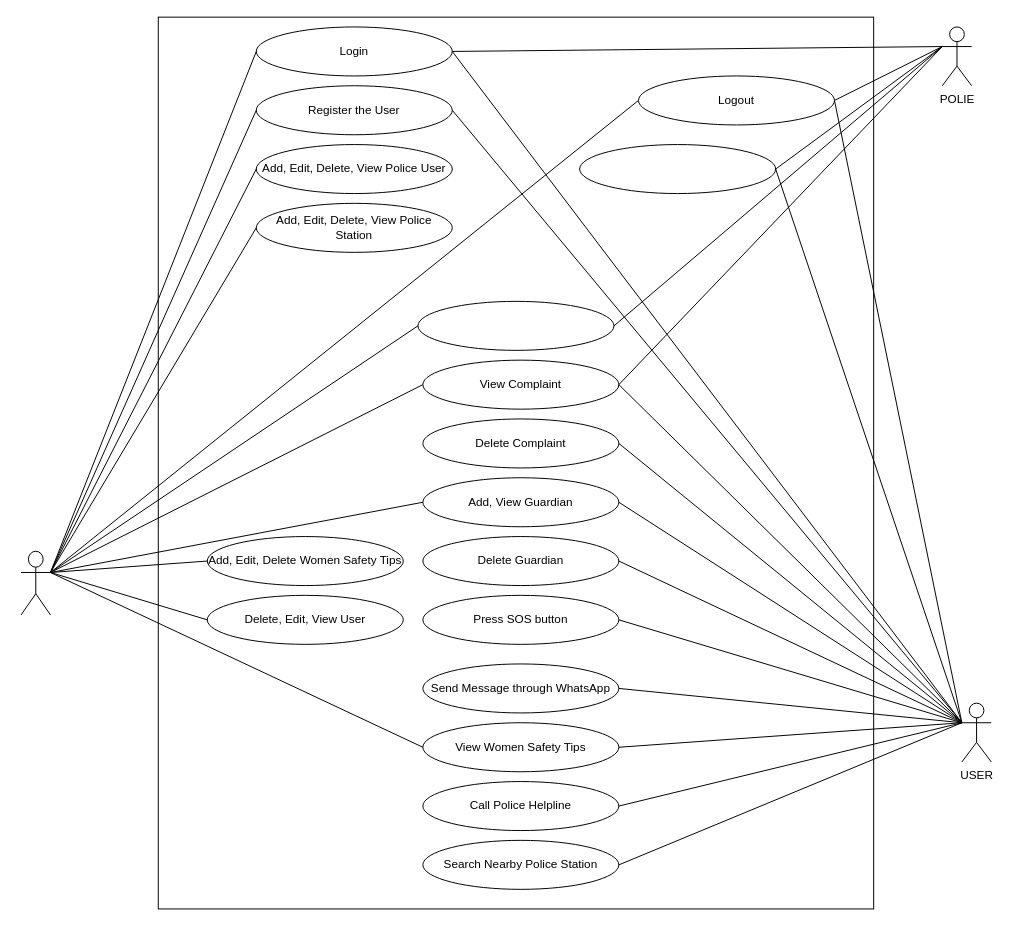
The diagram is 1009 pixels wide and 926 high, and some of its shapes have lost their labels. The shapes that lost their labels are listed below. From the top down, each one's box as (x1, y1, x2, y2) in pixels, then its label:
(579, 144, 776, 194): Create Complaint
(417, 300, 614, 350): Update Complaint Status, Date
(20, 550, 50, 615): ADMIN
